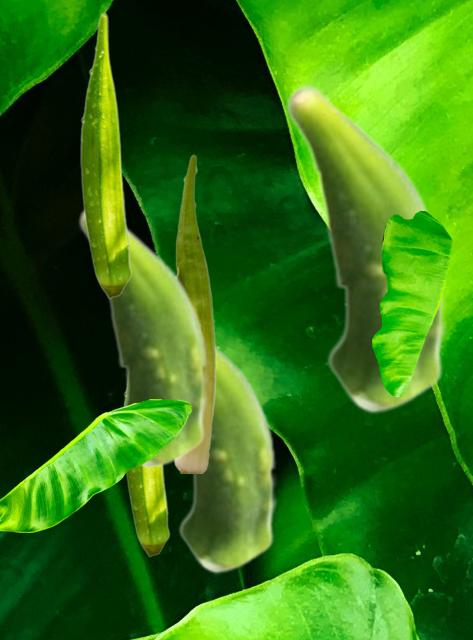okra: (284, 83, 447, 413), (77, 208, 208, 468), (175, 343, 277, 573), (80, 12, 131, 298), (174, 154, 215, 472), (123, 391, 169, 556)
